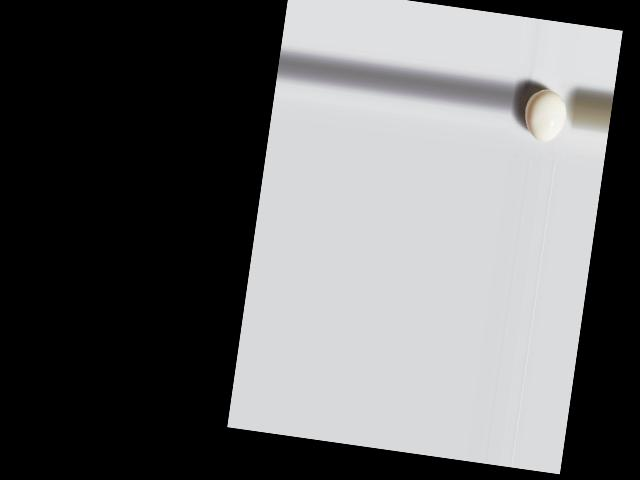egg: (521, 86, 568, 143)
